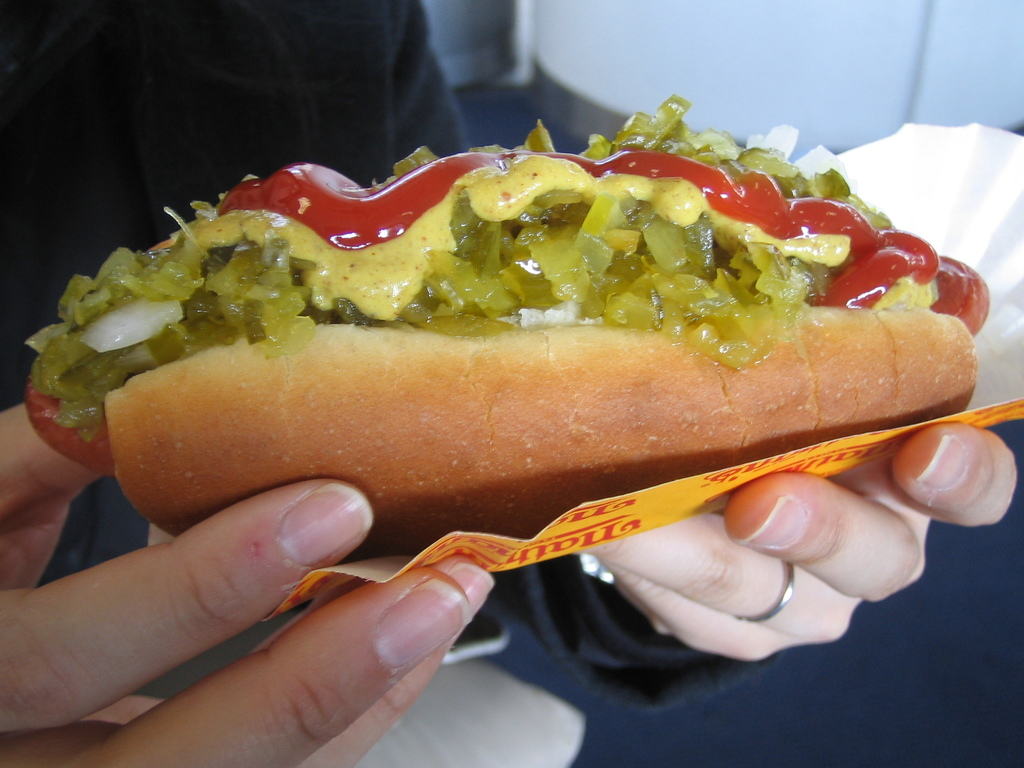hot_dog: (24, 88, 991, 564)
